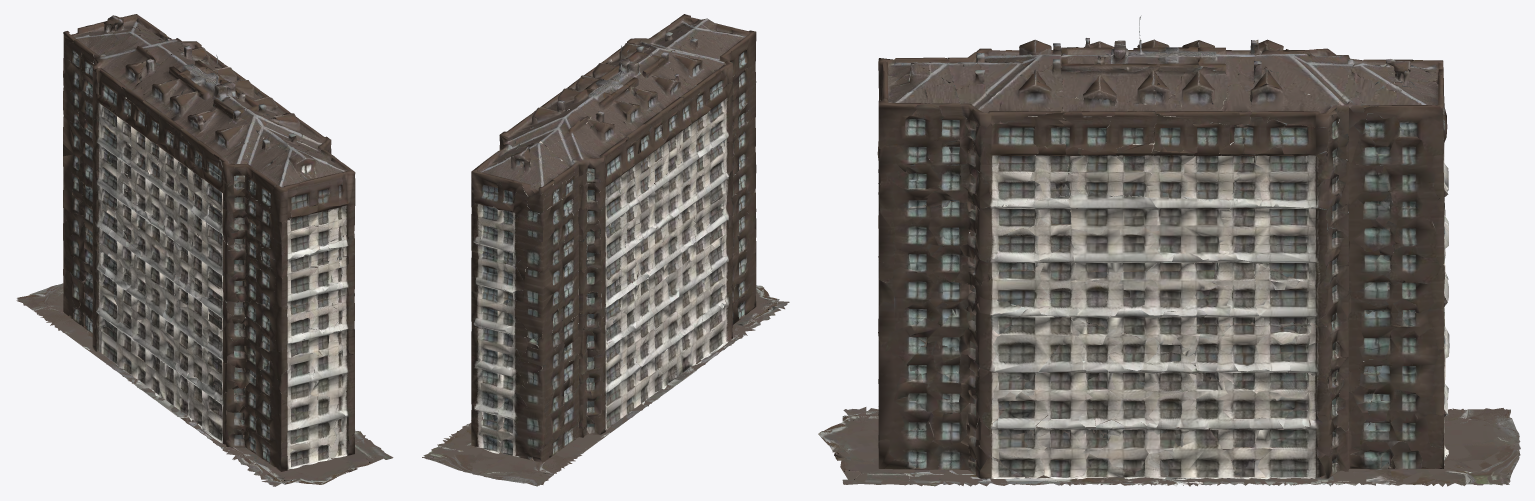
The model's file is urban-tower.glb.
3 views of the same model, side by side, from view 1: azimuth 30°, elevation 25°; view 2: azimuth 150°, elevation 25°; view 3: azimuth 270°, elevation 25° (orthographic). The views are drawn at different scales.
Parts seen in each view (by area): view 1: Mesh_0; view 2: Mesh_0; view 3: Mesh_0.
Boxes of the visible parts, x1,y1,x2,y2 form: Mesh_0: (16,14,393,486); Mesh_0: (422,14,789,486); Mesh_0: (818,15,1520,486).
Size of the model in its own units: 0.5116 by 1.28 by 1.89.
1 material, 1 textured.
